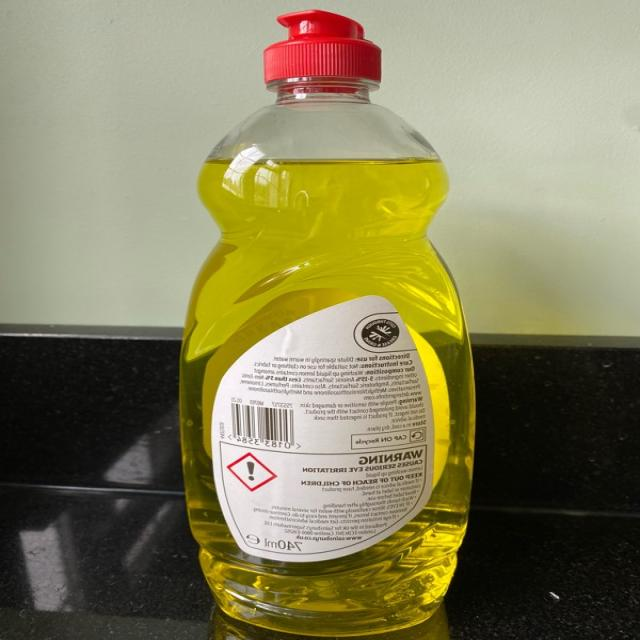plastic: (180, 8, 477, 640)
